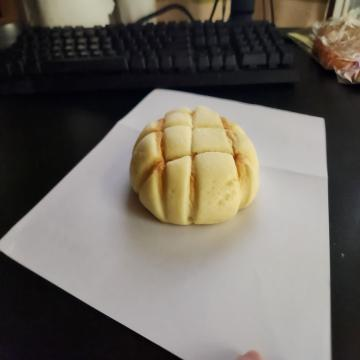melon_bread: (130, 106, 262, 228)
